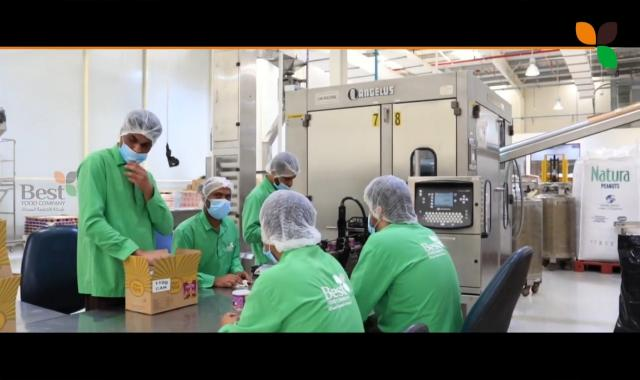hairnet: (260, 190, 319, 250), (365, 173, 417, 226), (117, 108, 162, 146), (202, 175, 233, 208), (266, 153, 301, 181)
